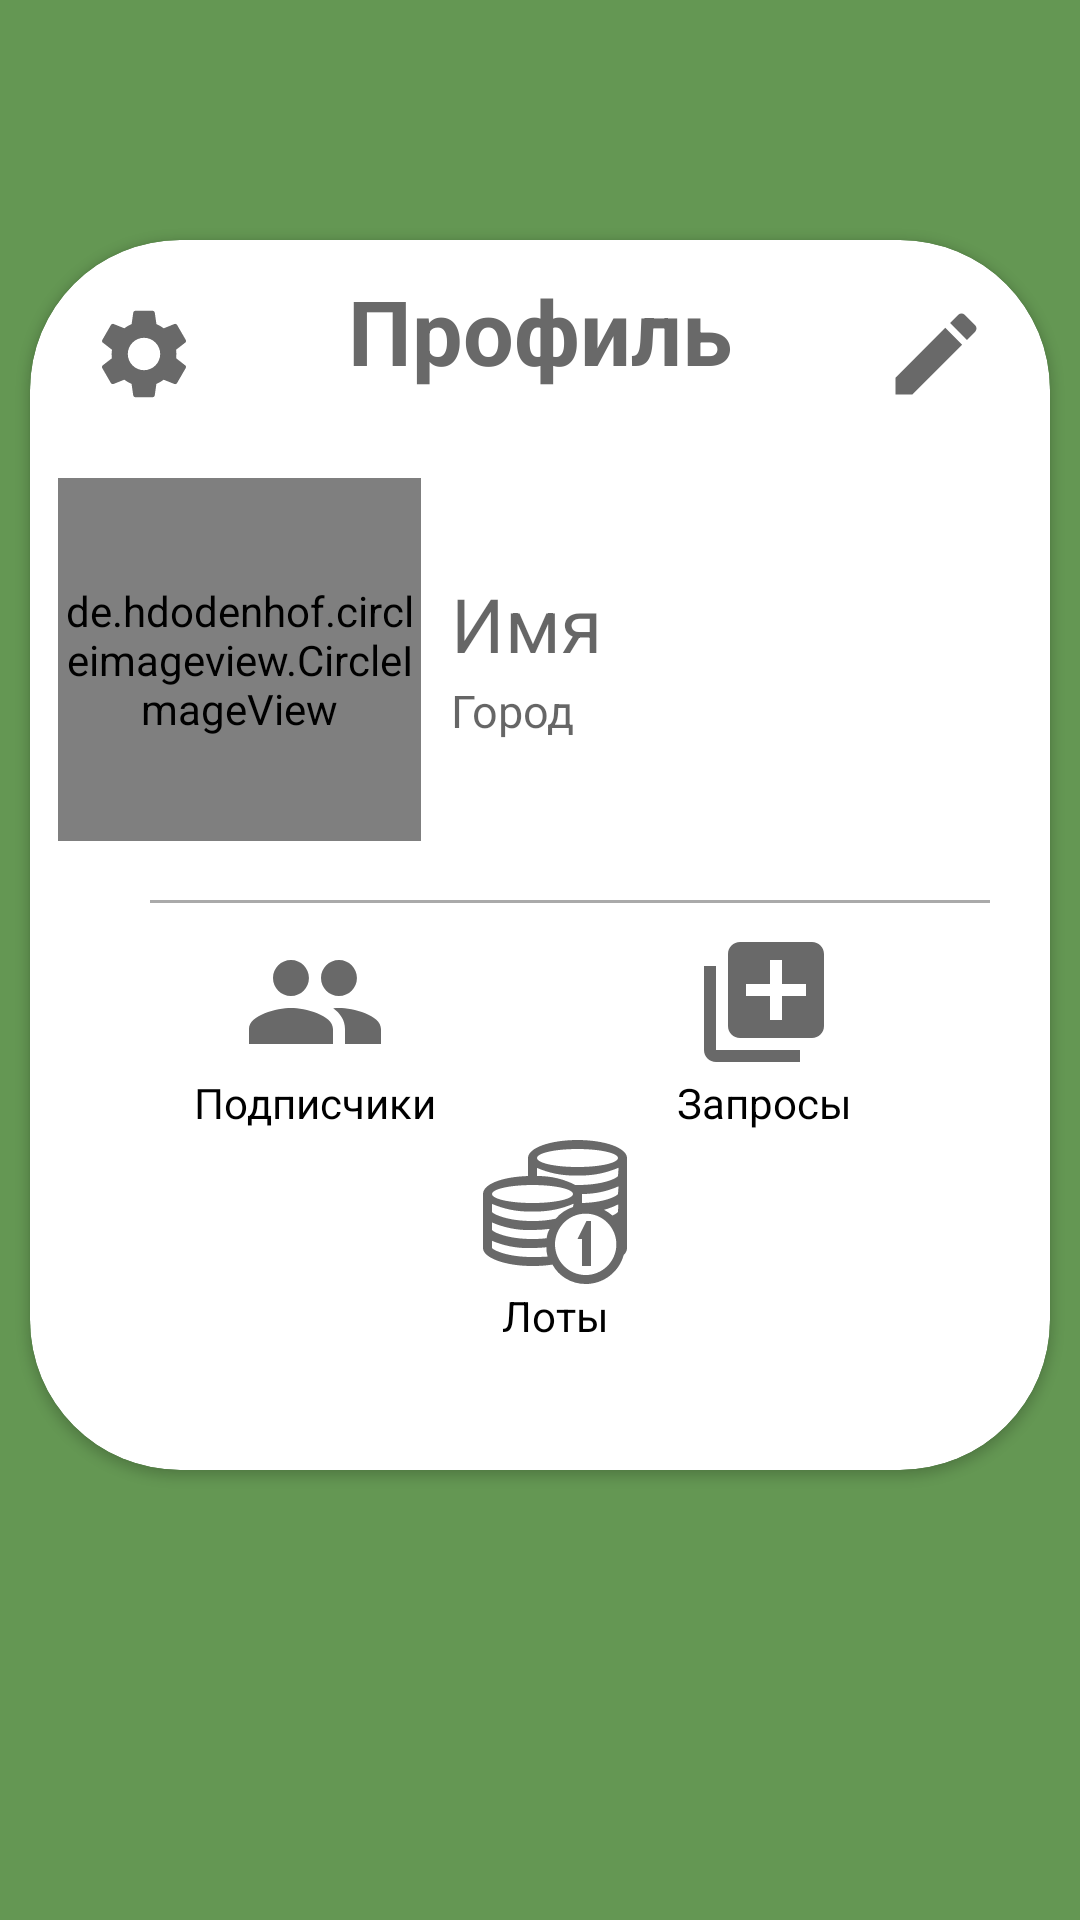

Icons on this 1080w x 1920h Android screen, each with the point to tap as [x,y]:
edit: [936,354]
settings: [144,354]
